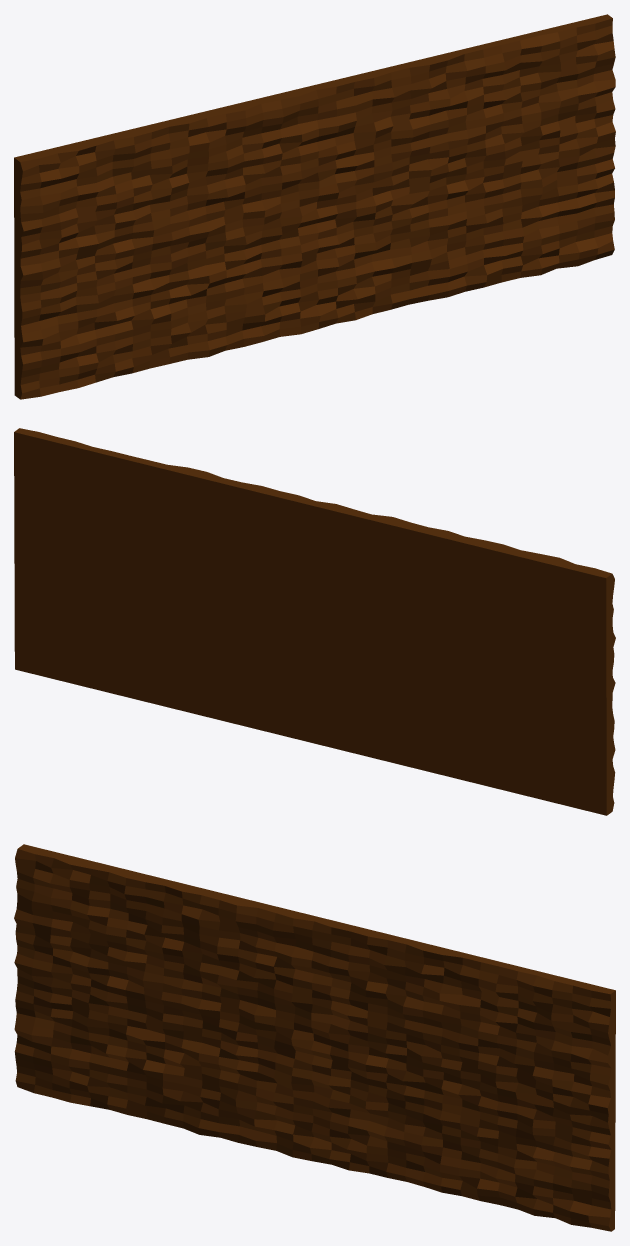
Rendered from Muro.fbx.
3 renders of one model, top to bottom at view 1: azimuth 30°, elevation 25°; view 2: azimuth 150°, elevation 25°; view 3: azimuth 330°, elevation 25°, orthographic.
Visible parts, largest first — view 1: Cube; view 2: Cube; view 3: Cube.
Part boxes in pixels (x1,y1,x2,y2): Cube: [14, 14, 615, 399]; Cube: [14, 428, 615, 815]; Cube: [14, 844, 615, 1231].
Size of the model in its own units: 3792 by 1453 by 120.
